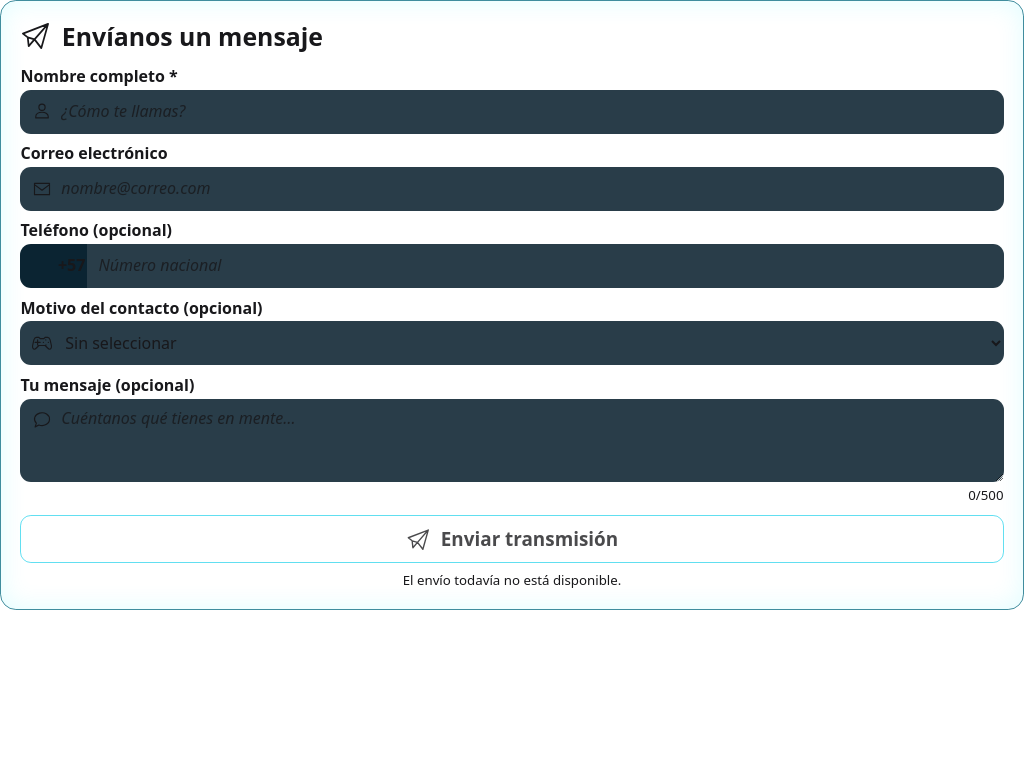
Scenario: keeps the phone optional and preserves invalid input while showing a translated error
Type "studio@example.com" into the field labelled "Correo electrónico". click: x=512, y=189
box: [20,167,1004,211]
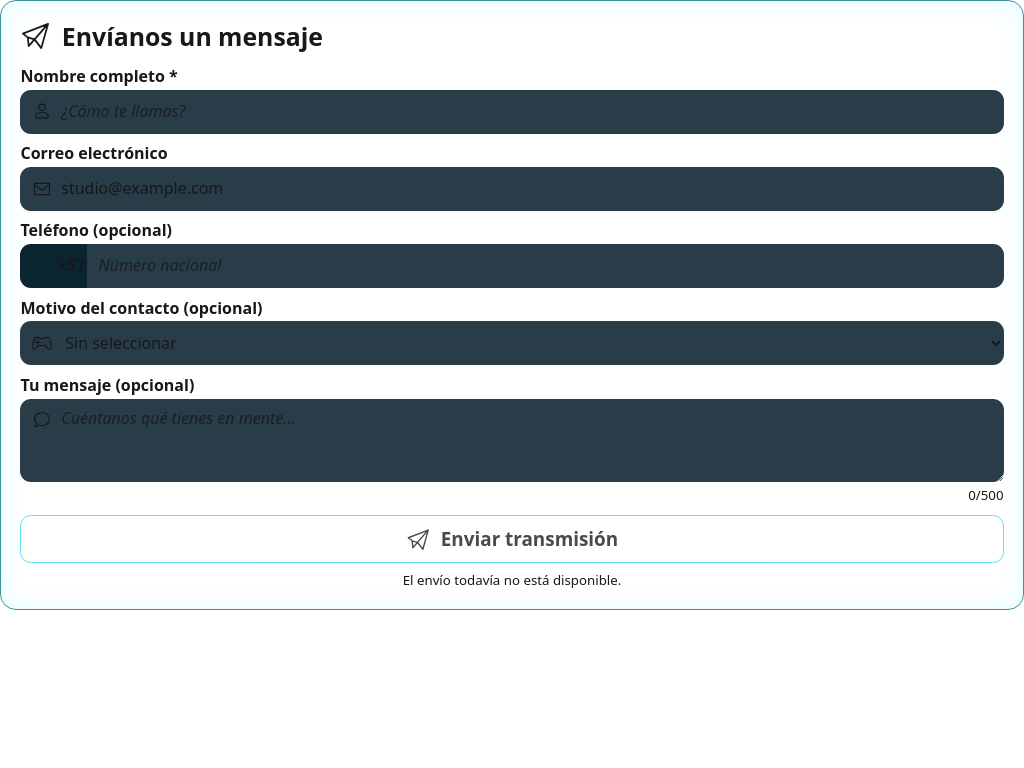
Type "+44 20" into the field labelled "Teléfono (opcional)". click: x=545, y=266
box: [87,244,1004,288]
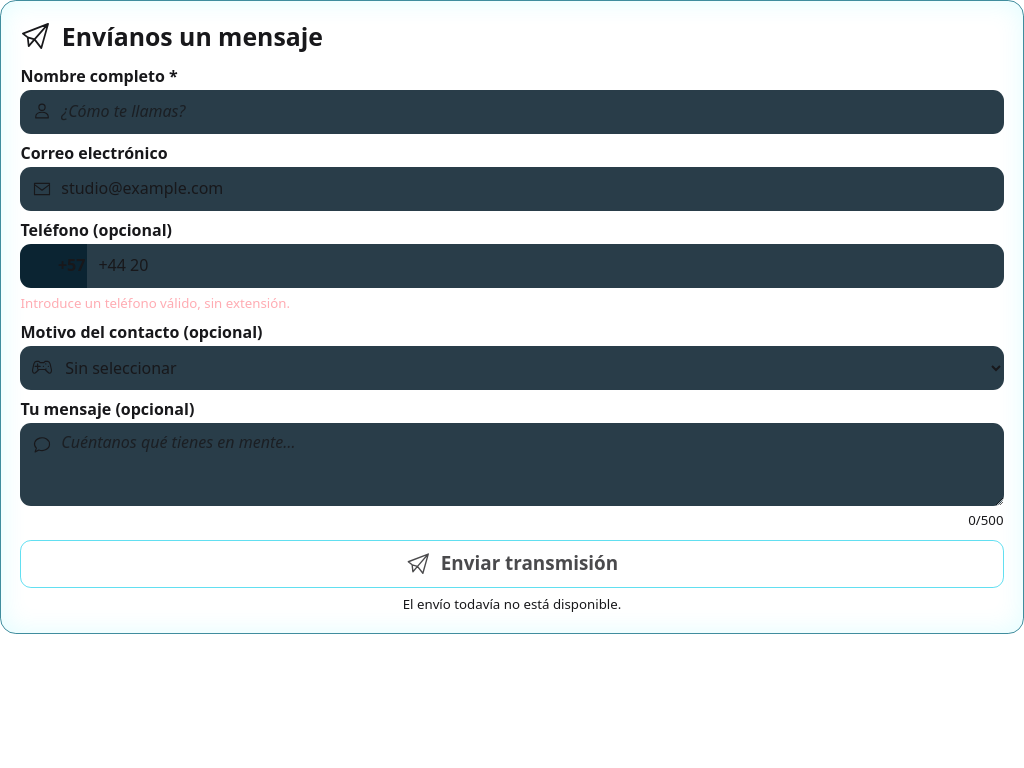
Result: the message reads "Introduce un teléfono válido, sin extensión." at [20,294,290,312]
Replace the text in the field labelled "Teléfono (opcional)" with "0044 20 7946 0018". click: x=545, y=266
box: [87,244,1004,288]
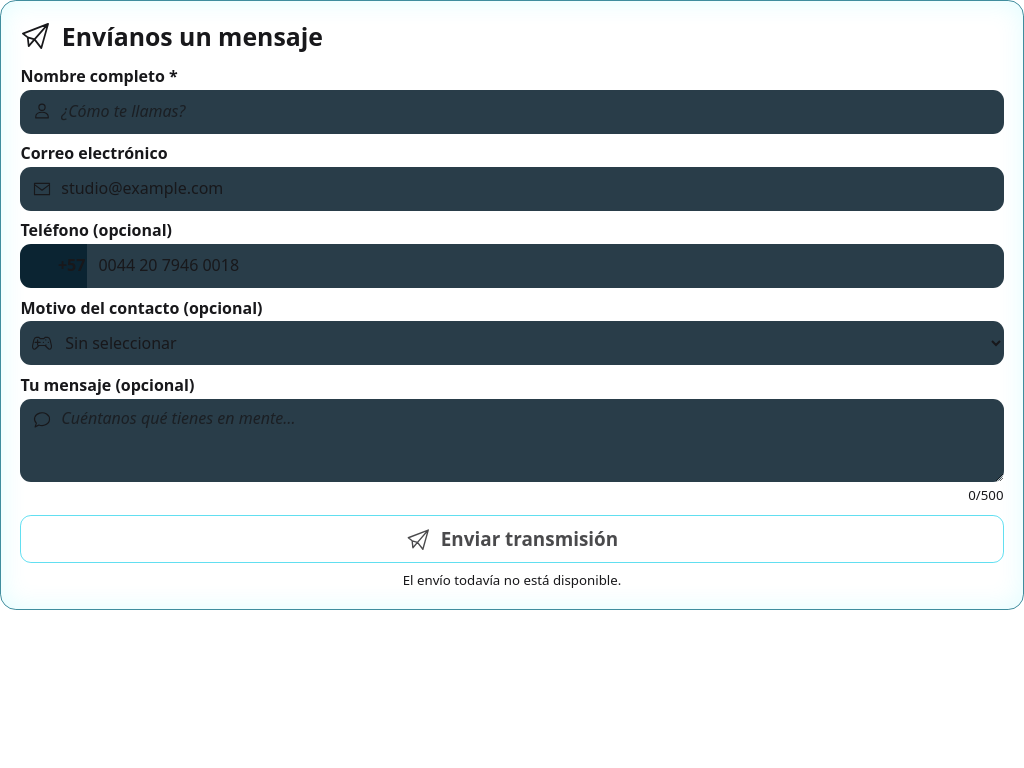
Leave the field labelled "Teléfono (opcional)", box [87,244,1004,288]
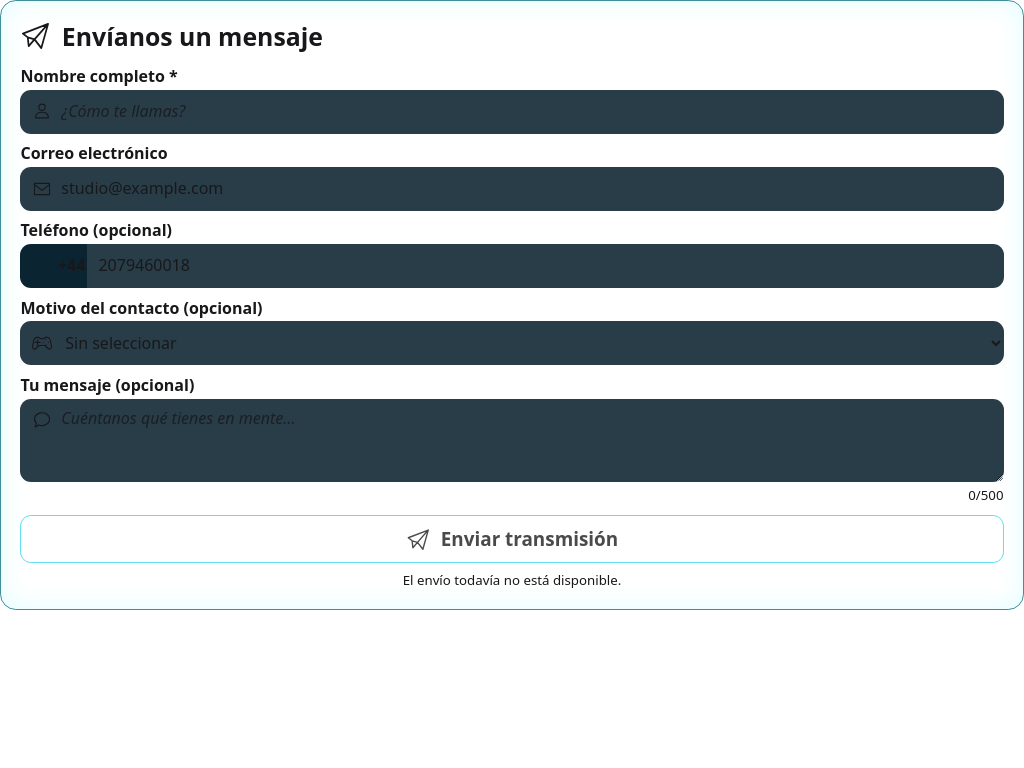
Expected: the button named "Reino Unido +44" is shown, [20,244,87,288]
Result: the field labelled "Teléfono (opcional)" holds "2079460018" at [87,244,1004,288]
